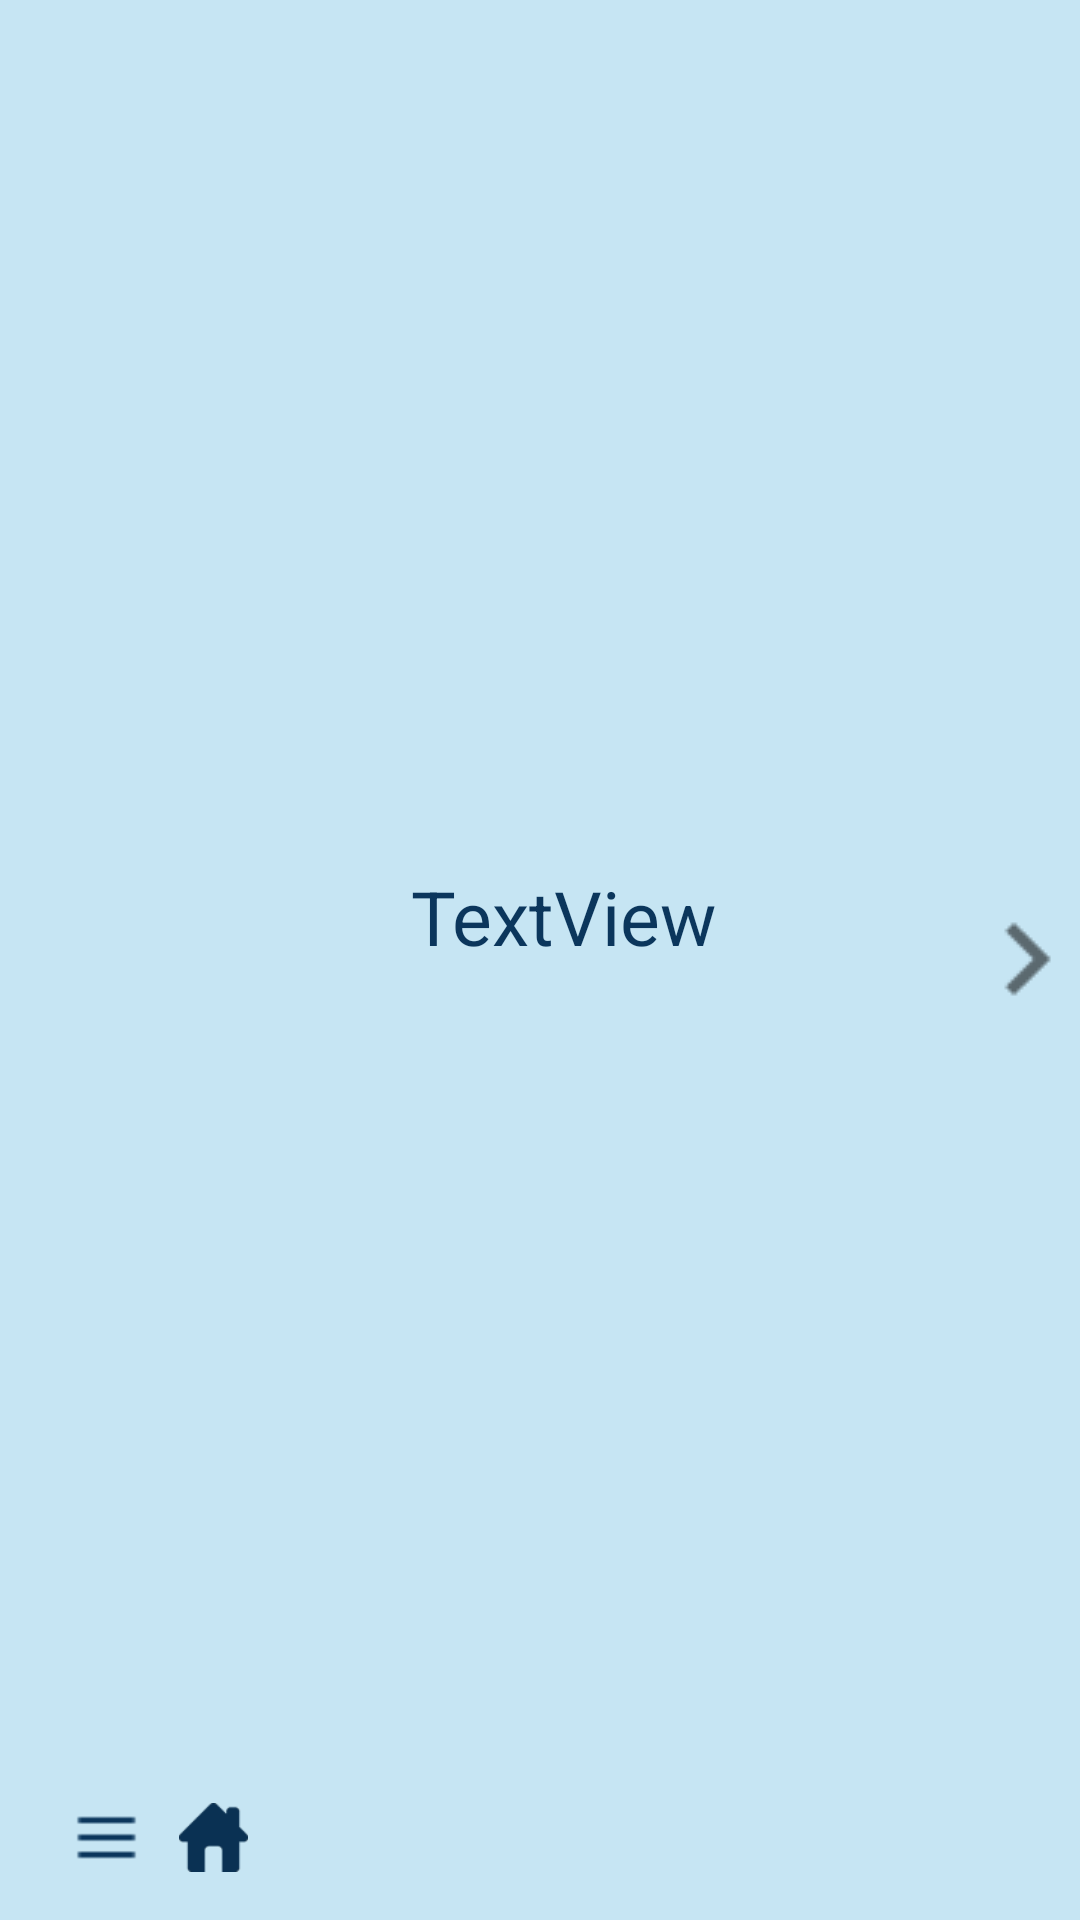

Screen size 1080px×1920px. Icon name, then its box in pixels as Rect(x1, y1, x2, y2):
home: Rect(179, 1803, 248, 1872)
menu: Rect(77, 1816, 136, 1859)
